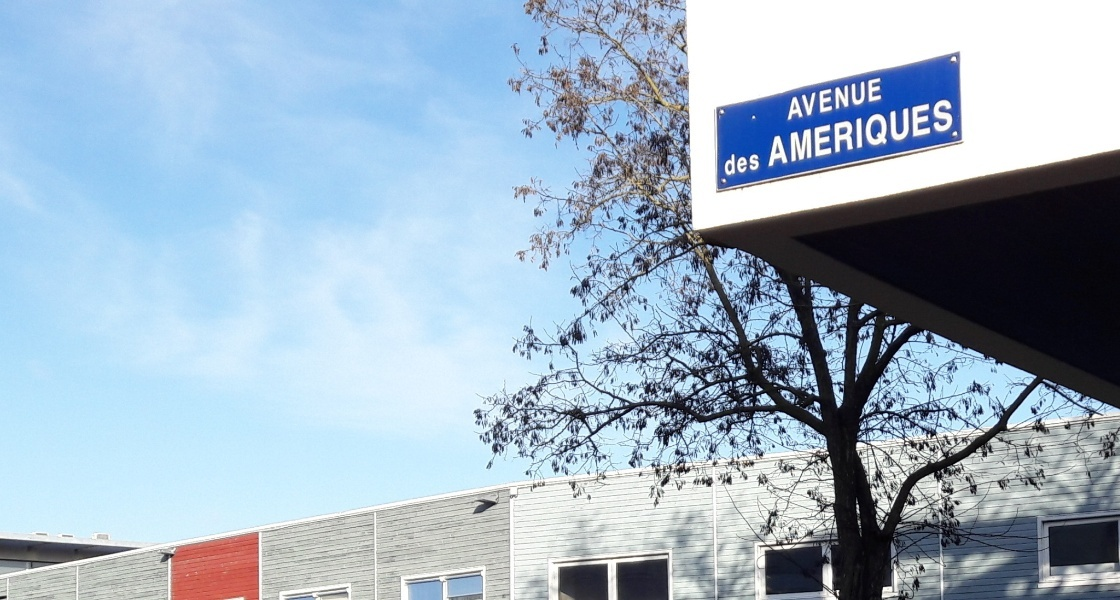text: (769, 97, 784, 168), (785, 97, 800, 168), (801, 97, 816, 168), (817, 97, 832, 168), (833, 97, 848, 168), (849, 97, 864, 168), (865, 97, 880, 168), (881, 97, 896, 168), (897, 97, 912, 168), (913, 97, 928, 168), (929, 97, 944, 168), (801, 78, 816, 121), (817, 78, 832, 121), (833, 78, 848, 121), (849, 78, 864, 121), (865, 78, 880, 121), (945, 97, 953, 168), (787, 78, 800, 121), (737, 149, 752, 177), (723, 149, 736, 177), (753, 149, 761, 177), (767, 97, 768, 168), (881, 78, 882, 121)
